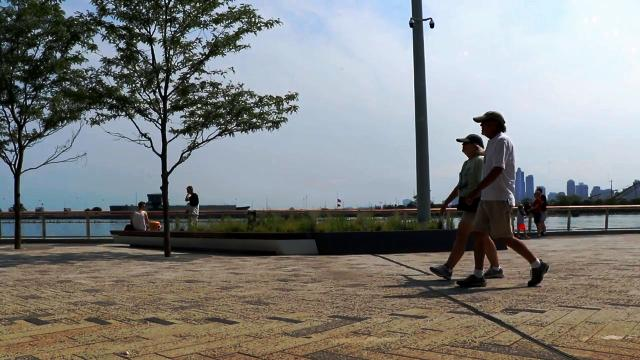berjalan: (442, 110, 554, 284), (430, 132, 504, 280)
